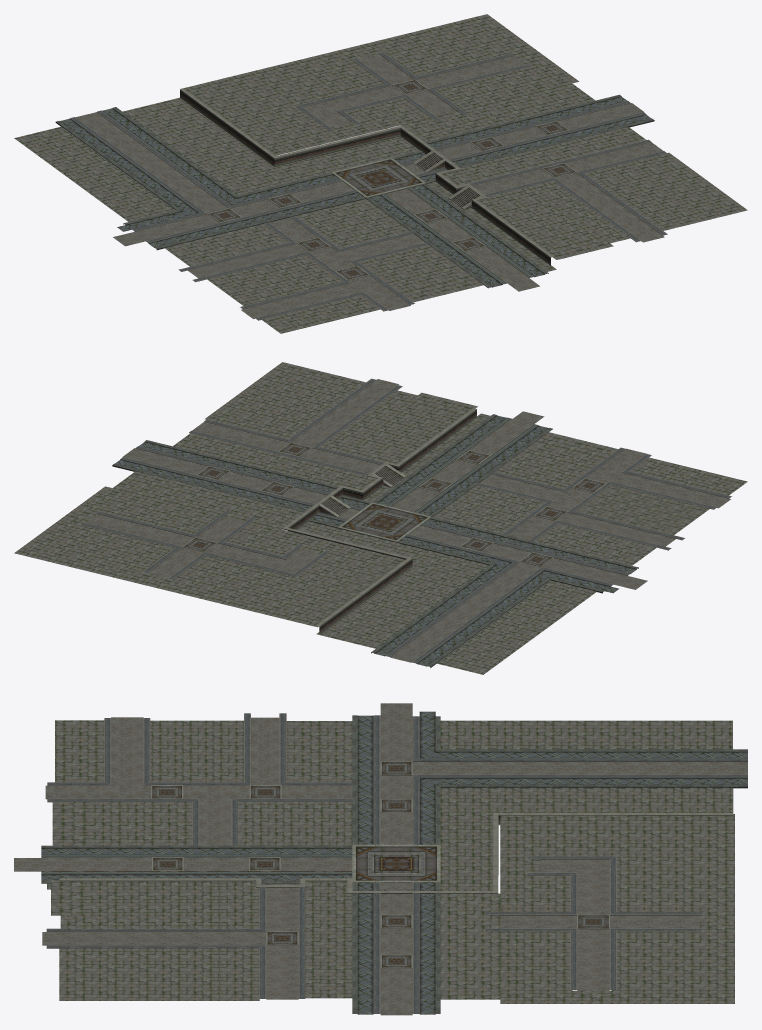
File: HYC_dimian.FBX
3 renders of one model, top to bottom at view 1: azimuth 30°, elevation 25°; view 2: azimuth 150°, elevation 25°; view 3: azimuth 270°, elevation 25°, orthographic. The views are drawn at different scales.
Visible parts, largest first — view 1: HYC_dimian; view 2: HYC_dimian; view 3: HYC_dimian.
Boxes of the visible parts, x1,y1,x2,y2 form: HYC_dimian: (14, 14, 747, 333); HYC_dimian: (14, 362, 747, 674); HYC_dimian: (14, 703, 747, 1015).
Bounding box in the file's own units: 12887 × 215 × 12428.
